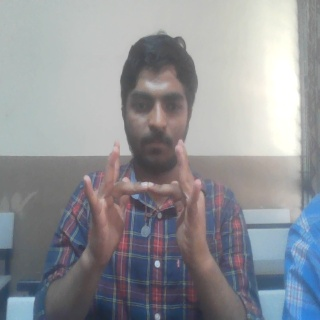Internet: (82, 138, 211, 273)
